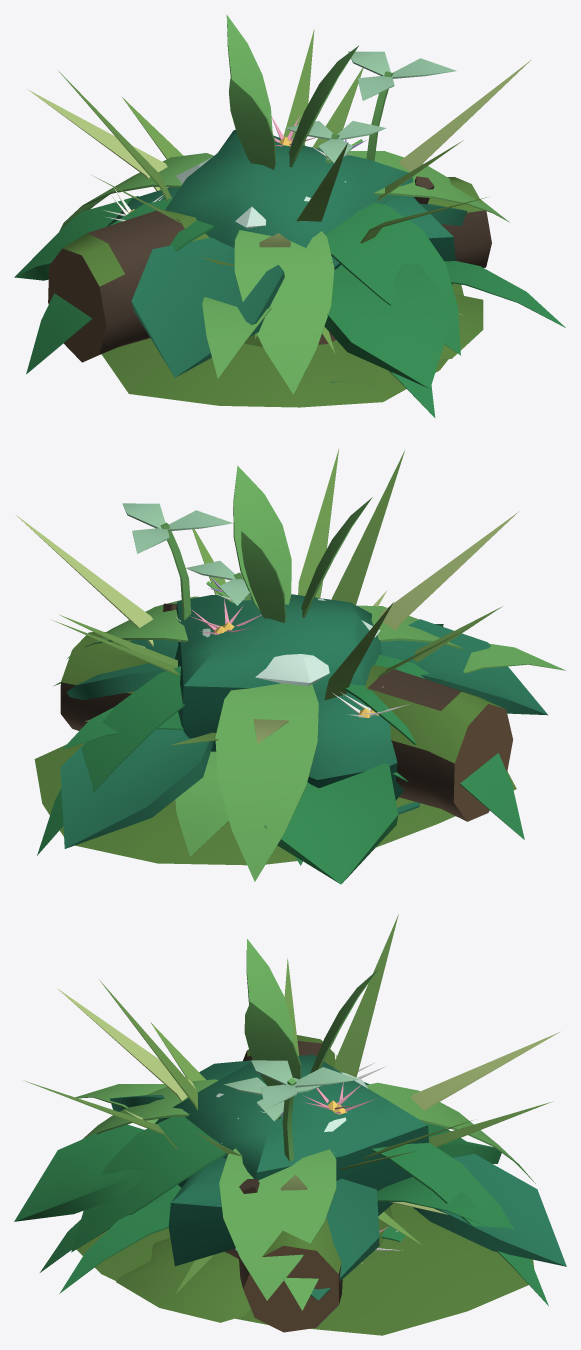
Rendered from JadeGrove_Plants.fbx.
The picture shows the model from 3 angles, top to bottom: view 1: azimuth 30°, elevation 25°; view 2: azimuth 150°, elevation 25°; view 3: azimuth 270°, elevation 25°; orthographic projection. The views are drawn at different scales.
Visible parts, largest first — view 1: JG_Plant_Fern_Crown_F2__FernBright, JG_Plant_FlowerBush_C1__LeafMid, JG_Moss_Mat_M2__Moss, JG_Plant_BroadLeaf_L1__Fern, JG_Plant_BroadLeaf_L1__LeafMid, JG_Plant_Fern_Crown_F2__Fern, JG_Log_Fallen_L1__Trunk, JG_Plant_Grass_G2__Grass, JG_Log_Fallen_L1__Timber, JG_Plant_Grass_G2__GrassPale, JG_Plant_Fern_Fountain_F1__Fern, JG_Plant_Fern_Fountain_F1__FernBright (+5 smaller); view 2: JG_Plant_Fern_Crown_F2__FernBright, JG_Plant_FlowerBush_C1__LeafMid, JG_Plant_BroadLeaf_L1__LeafMid, JG_Plant_Fern_Crown_F2__Fern, JG_Plant_BroadLeaf_L1__Fern, JG_Moss_Mat_M2__Moss, JG_Plant_Grass_G2__Grass, JG_Log_Fallen_L1__Trunk, JG_Log_Fallen_L1__Moss, JG_Plant_Fern_Fountain_F1__FernBright, JG_Plant_Grass_G2__GrassPale, JG_Log_Fallen_L1__Timber (+6 smaller); view 3: JG_Moss_Mat_M2__Moss, JG_Plant_Fern_Crown_F2__FernBright, JG_Plant_FlowerBush_C1__LeafMid, JG_Plant_Fern_Crown_F2__Fern, JG_Plant_BroadLeaf_L1__LeafMid, JG_Plant_BroadLeaf_L1__Fern, JG_Plant_Grass_G2__Grass, JG_Plant_FlowerBush_C1__LeafDeep, JG_Plant_Fern_Fountain_F1__Fern, JG_Log_Fallen_L1__Timber, JG_Plant_Grass_G2__GrassPale, JG_Log_Fallen_L1__LeafPale (+6 smaller).
Boxes of the visible parts, <box> form: JG_Plant_Fern_Crown_F2__FernBright: <box>59,14,509,394</box>; JG_Plant_FlowerBush_C1__LeafMid: <box>107,129,453,266</box>; JG_Moss_Mat_M2__Moss: <box>101,283,483,407</box>; JG_Plant_BroadLeaf_L1__Fern: <box>14,196,453,388</box>; JG_Plant_BroadLeaf_L1__LeafMid: <box>131,203,467,377</box>; JG_Plant_Fern_Crown_F2__Fern: <box>26,198,460,374</box>; JG_Log_Fallen_L1__Trunk: <box>88,176,491,354</box>; JG_Plant_Grass_G2__Grass: <box>58,29,486,265</box>; JG_Log_Fallen_L1__Timber: <box>48,248,106,362</box>; JG_Plant_Grass_G2__GrassPale: <box>27,59,531,247</box>; JG_Plant_Fern_Fountain_F1__Fern: <box>389,261,565,417</box>; JG_Plant_Fern_Fountain_F1__FernBright: <box>202,297,271,378</box>; JG_Plant_Fern_Crown_F2__FernBright: <box>67,466,463,881</box>; JG_Plant_FlowerBush_C1__LeafMid: <box>130,594,397,779</box>; JG_Plant_BroadLeaf_L1__LeafMid: <box>60,619,547,848</box>; JG_Plant_Fern_Crown_F2__Fern: <box>37,654,524,855</box>; JG_Plant_BroadLeaf_L1__Fern: <box>264,624,443,884</box>; JG_Moss_Mat_M2__Moss: <box>34,743,516,865</box>; JG_Plant_Grass_G2__Grass: <box>53,449,502,745</box>; JG_Log_Fallen_L1__Trunk: <box>60,603,474,821</box>; JG_Log_Fallen_L1__Moss: <box>61,632,504,763</box>; JG_Plant_Fern_Fountain_F1__FernBright: <box>53,643,565,856</box>; JG_Plant_Grass_G2__GrassPale: <box>15,511,519,743</box>; JG_Log_Fallen_L1__Timber: <box>453,704,512,821</box>; JG_Moss_Mat_M2__Moss: <box>76,1203,534,1335</box>; JG_Plant_Fern_Crown_F2__FernBright: <box>82,939,535,1300</box>; JG_Plant_FlowerBush_C1__LeafMid: <box>155,1054,427,1207</box>; JG_Plant_Fern_Crown_F2__Fern: <box>71,1116,548,1305</box>; JG_Plant_BroadLeaf_L1__LeafMid: <box>110,1060,566,1300</box>; JG_Plant_BroadLeaf_L1__Fern: <box>14,1122,502,1221</box>; JG_Plant_Grass_G2__Grass: <box>24,914,552,1170</box>; JG_Plant_FlowerBush_C1__LeafDeep: <box>168,1125,428,1266</box>; JG_Plant_Fern_Fountain_F1__Fern: <box>40,1177,490,1293</box>; JG_Log_Fallen_L1__Timber: <box>243,1245,338,1332</box>; JG_Plant_Grass_G2__GrassPale: <box>57,988,559,1190</box>; JG_Log_Fallen_L1__LeafPale: <box>251,1060,358,1109</box>.
Size of the model in its own units: 11.61 by 6.65 by 11.11.
